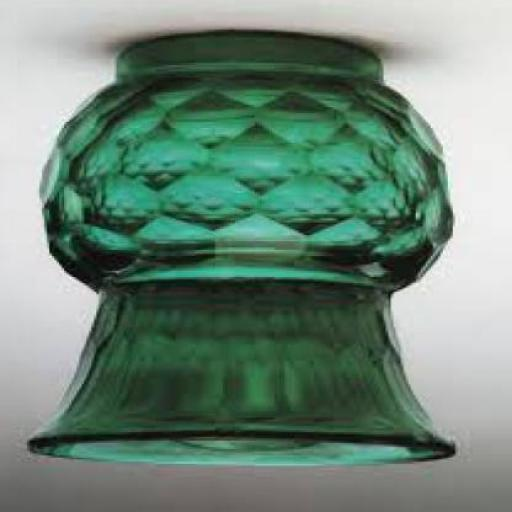glass: (30, 36, 460, 468)
